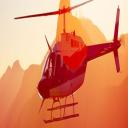helicopter: (12, 1, 124, 128)
